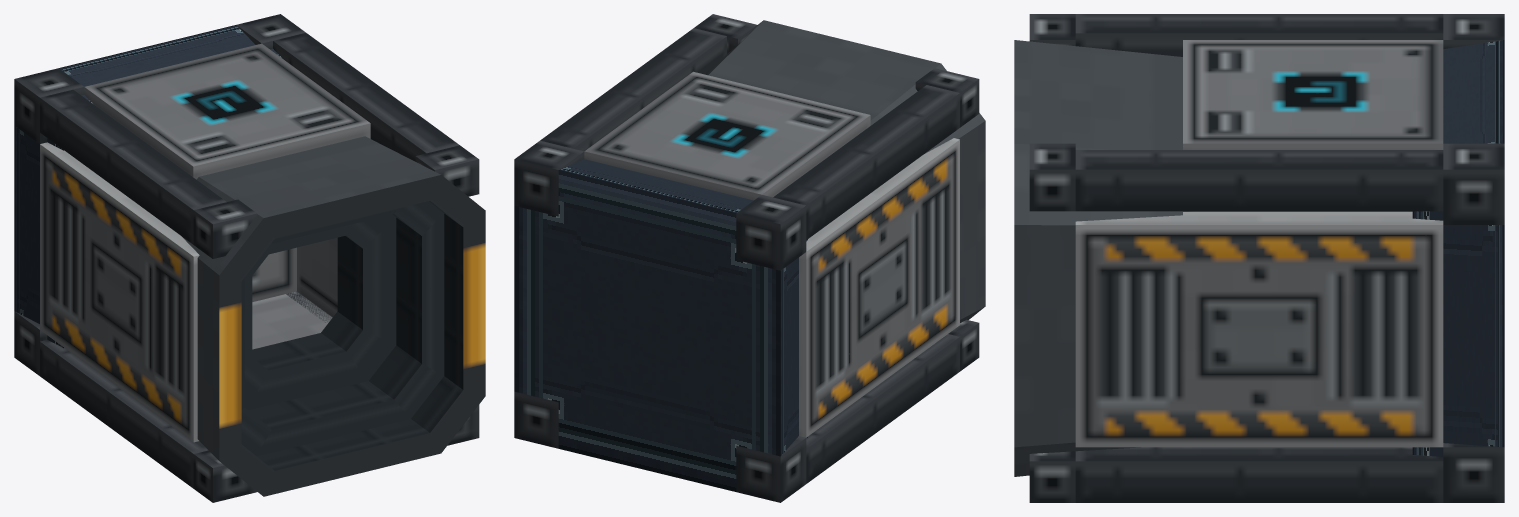
Rendered from maxwell_body.obj.
3 renders of one model, left to right at view 1: azimuth 30°, elevation 25°; view 2: azimuth 150°, elevation 25°; view 3: azimuth 270°, elevation 25°, orthographic. The views are drawn at different scales.
Parts seen in each view (by area): view 1: static__nozzle_shell, static__west_side_armor, static__top_service_deck, static__west_upper_rail, maxwell_service_bulkhead, static__main_armored_chamber, static__west_lower_rail, static__east_upper_rail, static__west_rear_upper_collar, static__west_front_upper_collar, static__west_rear_lower_collar, static__east_rear_upper_collar (+3 smaller); view 2: maxwell_service_bulkhead, static__west_side_armor, static__top_service_deck, static__nozzle_shell, static__west_upper_rail, static__west_lower_rail, static__east_upper_rail, static__west_front_upper_collar, static__west_front_lower_collar, static__east_front_upper_collar, static__east_front_lower_collar, static__west_rear_upper_collar (+2 smaller); view 3: static__east_side_armor, static__nozzle_shell, static__top_service_deck, static__east_upper_rail, maxwell_service_bulkhead, static__east_lower_rail, static__west_upper_rail, static__east_front_upper_collar, static__east_front_lower_collar, static__east_rear_upper_collar, static__east_rear_lower_collar, static__west_front_upper_collar (+2 smaller).
Boxes of the visible parts, x1,y1,x2,y2 form: static__nozzle_shell: (181, 136, 485, 496); static__west_side_armor: (40, 142, 199, 442); static__top_service_deck: (84, 43, 370, 179); static__west_upper_rail: (40, 89, 226, 244); maxwell_service_bulkhead: (14, 25, 282, 347); static__main_armored_chamber: (252, 237, 337, 349); static__west_lower_rail: (40, 339, 208, 488); static__east_upper_rail: (273, 33, 459, 161); static__west_rear_upper_collar: (193, 199, 257, 258); static__west_front_upper_collar: (14, 68, 84, 143); static__west_rear_lower_collar: (193, 450, 256, 502); static__east_rear_upper_collar: (415, 145, 479, 196); maxwell_service_bulkhead: (514, 159, 807, 491); static__west_side_armor: (799, 138, 959, 437); static__top_service_deck: (584, 71, 870, 200); static__nozzle_shell: (706, 20, 985, 322); static__west_upper_rail: (773, 85, 959, 239); static__west_lower_rail: (806, 334, 959, 483); static__east_upper_rail: (540, 28, 726, 151); static__west_front_upper_collar: (736, 195, 806, 270); static__west_front_lower_collar: (736, 436, 806, 502); static__east_front_upper_collar: (514, 140, 584, 216); static__east_front_lower_collar: (514, 391, 558, 448); static__west_rear_upper_collar: (915, 68, 979, 127); static__east_side_armor: (1075, 212, 1443, 447); static__nozzle_shell: (1014, 40, 1182, 476); static__top_service_deck: (1183, 40, 1443, 149); static__east_upper_rail: (1075, 150, 1443, 211); maxwell_service_bulkhead: (1412, 40, 1504, 456); static__east_lower_rail: (1075, 447, 1443, 502); static__west_upper_rail: (1075, 14, 1443, 56); static__east_front_upper_collar: (1443, 143, 1504, 224); static__east_front_lower_collar: (1443, 443, 1504, 502); static__east_rear_upper_collar: (1029, 143, 1075, 211); static__east_rear_lower_collar: (1029, 451, 1075, 502); static__west_front_upper_collar: (1443, 14, 1504, 48).
Bounding box in the file's own units: 3 × 3 × 4.
